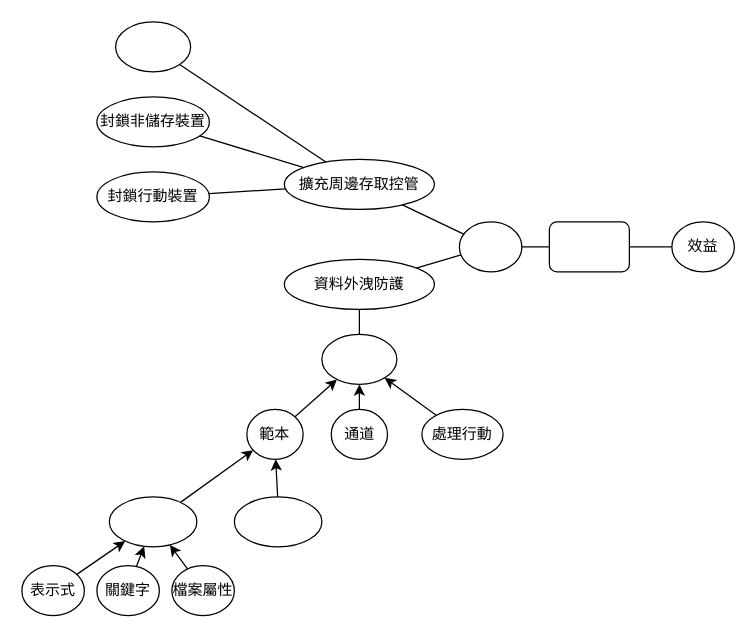
This 756x638 diagram has some shape labels left out. The shapes that lost their labels are listed below. From the top down, each one's box as (x1, y1, x2, y2) in pixels, then its label:
(114, 21, 191, 72): 封鎖USB
(458, 221, 522, 272): 功能
(548, 221, 629, 272): DLP
(321, 333, 397, 384): 策略
(108, 496, 197, 547): 資料識別碼
(233, 496, 322, 547): 邏輯運算子
